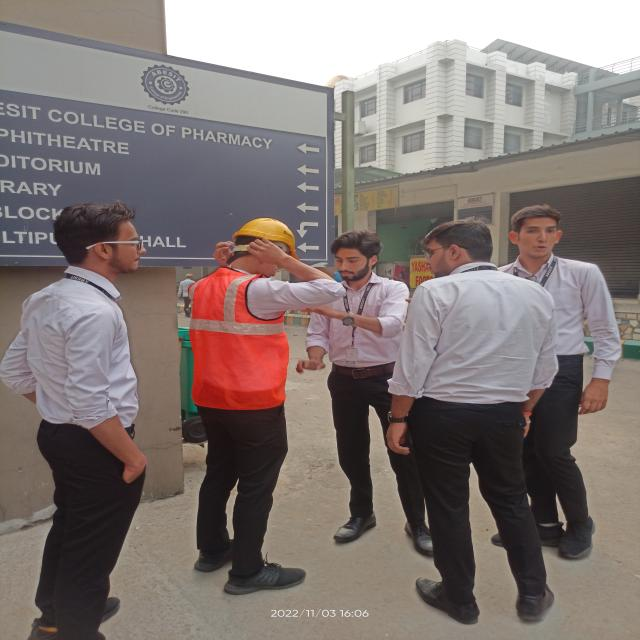safe: (181, 218, 308, 578)
unsafe: (8, 200, 152, 582), (408, 222, 549, 576), (311, 230, 419, 556)
